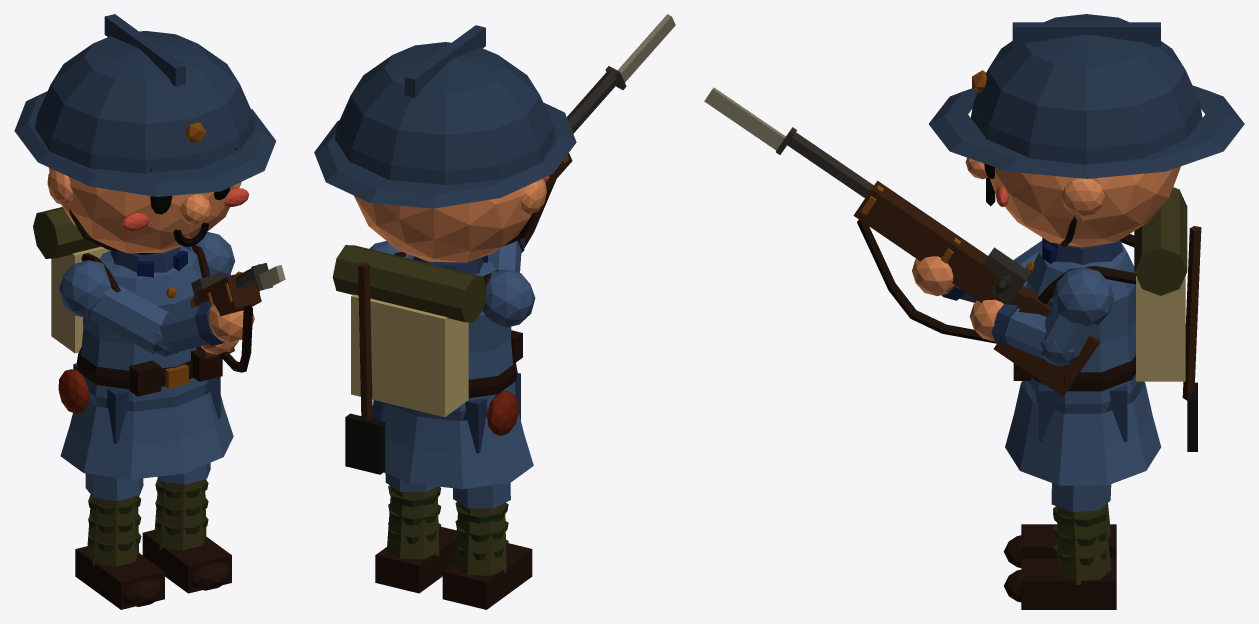
Rendered from Fusilero_CascoAdrian.obj.
3 views of the same model, side by side, from view 1: azimuth 30°, elevation 25°; view 2: azimuth 150°, elevation 25°; view 3: azimuth 270°, elevation 25° (orthographic). The views are drawn at different scales.
Parts seen in each view (by area): view 1: Cuerpo, Pierna_I, Pierna_D; view 2: Cuerpo, Pierna_I, Pierna_D; view 3: Cuerpo, Pierna_D, Pierna_I.
Boxes of the visible parts, x1,y1,x2,y2 form: Cuerpo: [14, 14, 285, 479]; Pierna_I: [75, 473, 164, 609]; Pierna_D: [142, 462, 231, 593]; Cuerpo: [314, 14, 675, 489]; Pierna_I: [442, 482, 532, 609]; Pierna_D: [375, 473, 456, 593]; Cuerpo: [704, 14, 1244, 485]; Pierna_D: [1004, 483, 1116, 609]; Pierna_I: [1003, 503, 1116, 567].
Bounding box in the file's own units: 0.736 × 1.75 × 1.53.
